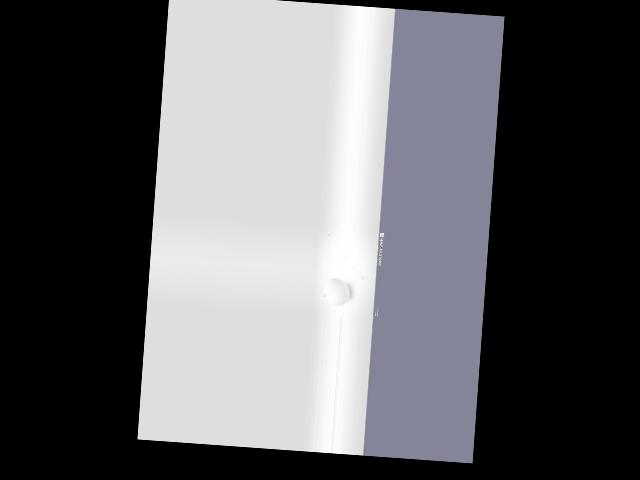egg: (324, 278, 351, 307)
